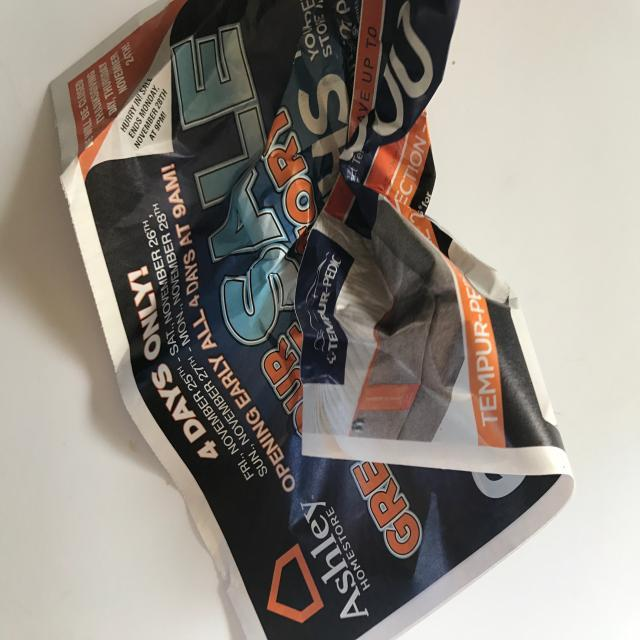paper: (48, 2, 576, 640)
